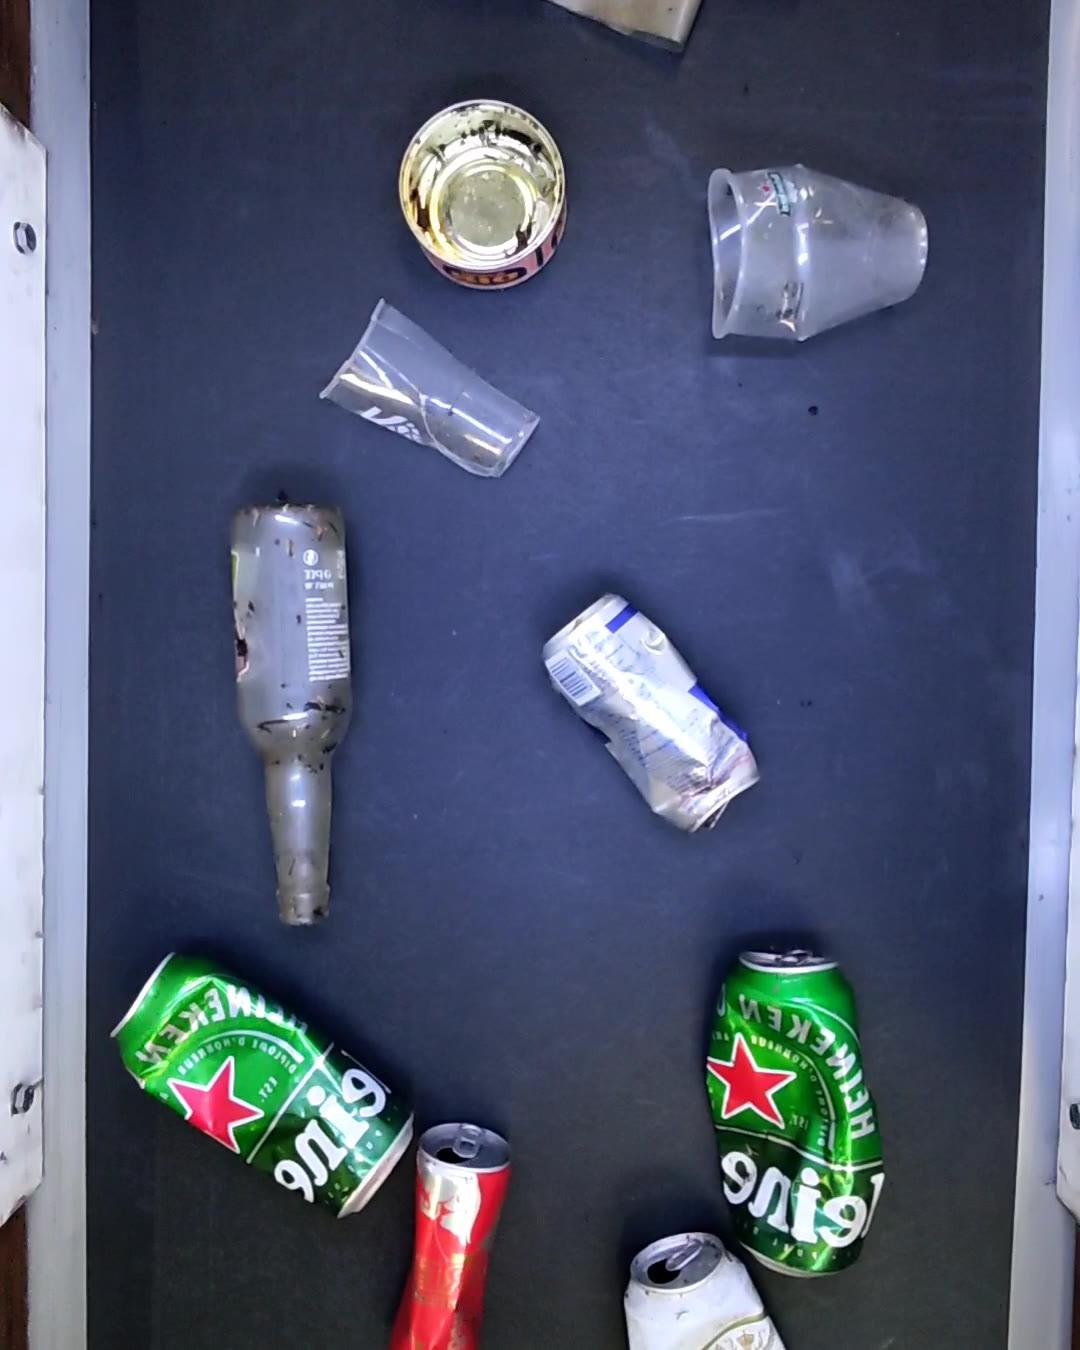Drankblikjes: (106, 948, 420, 1231), (706, 946, 878, 1278), (541, 590, 765, 838), (384, 1122, 512, 1350), (624, 1231, 789, 1350)
